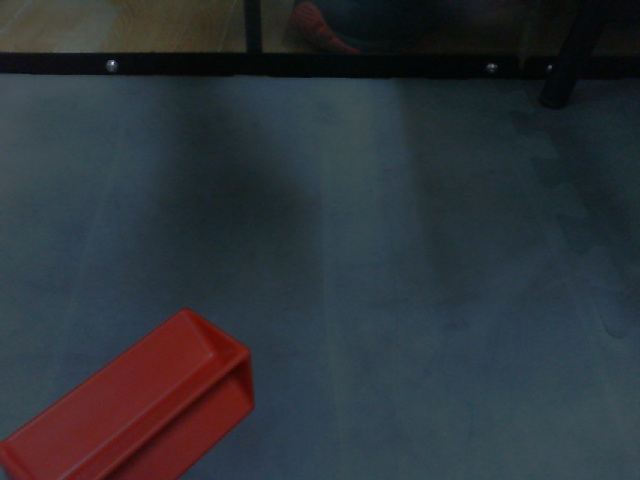RedSample: (1, 305, 257, 480)
